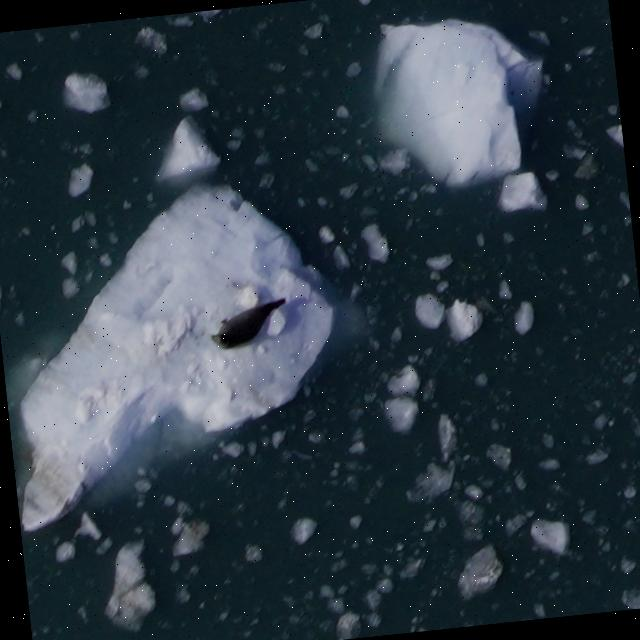seal: (201, 294, 294, 356)
